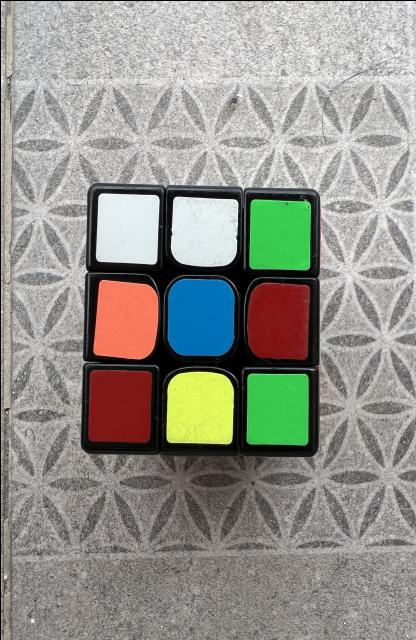Blue: (167, 278, 234, 355)
Green: (246, 372, 308, 445), (248, 199, 310, 270)
Orange: (92, 279, 157, 359)
Red: (246, 281, 309, 359), (88, 369, 151, 442)
White: (170, 195, 237, 266), (94, 192, 158, 264)
Yellow: (166, 370, 233, 444)
